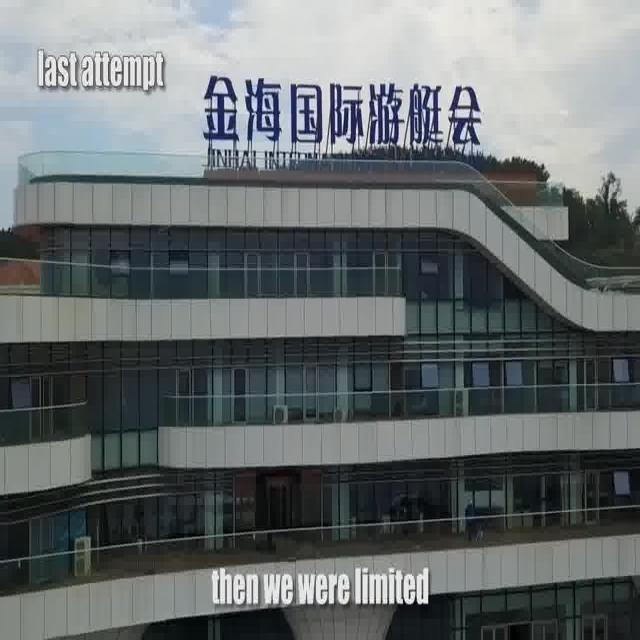drone: (470, 525, 490, 545)
